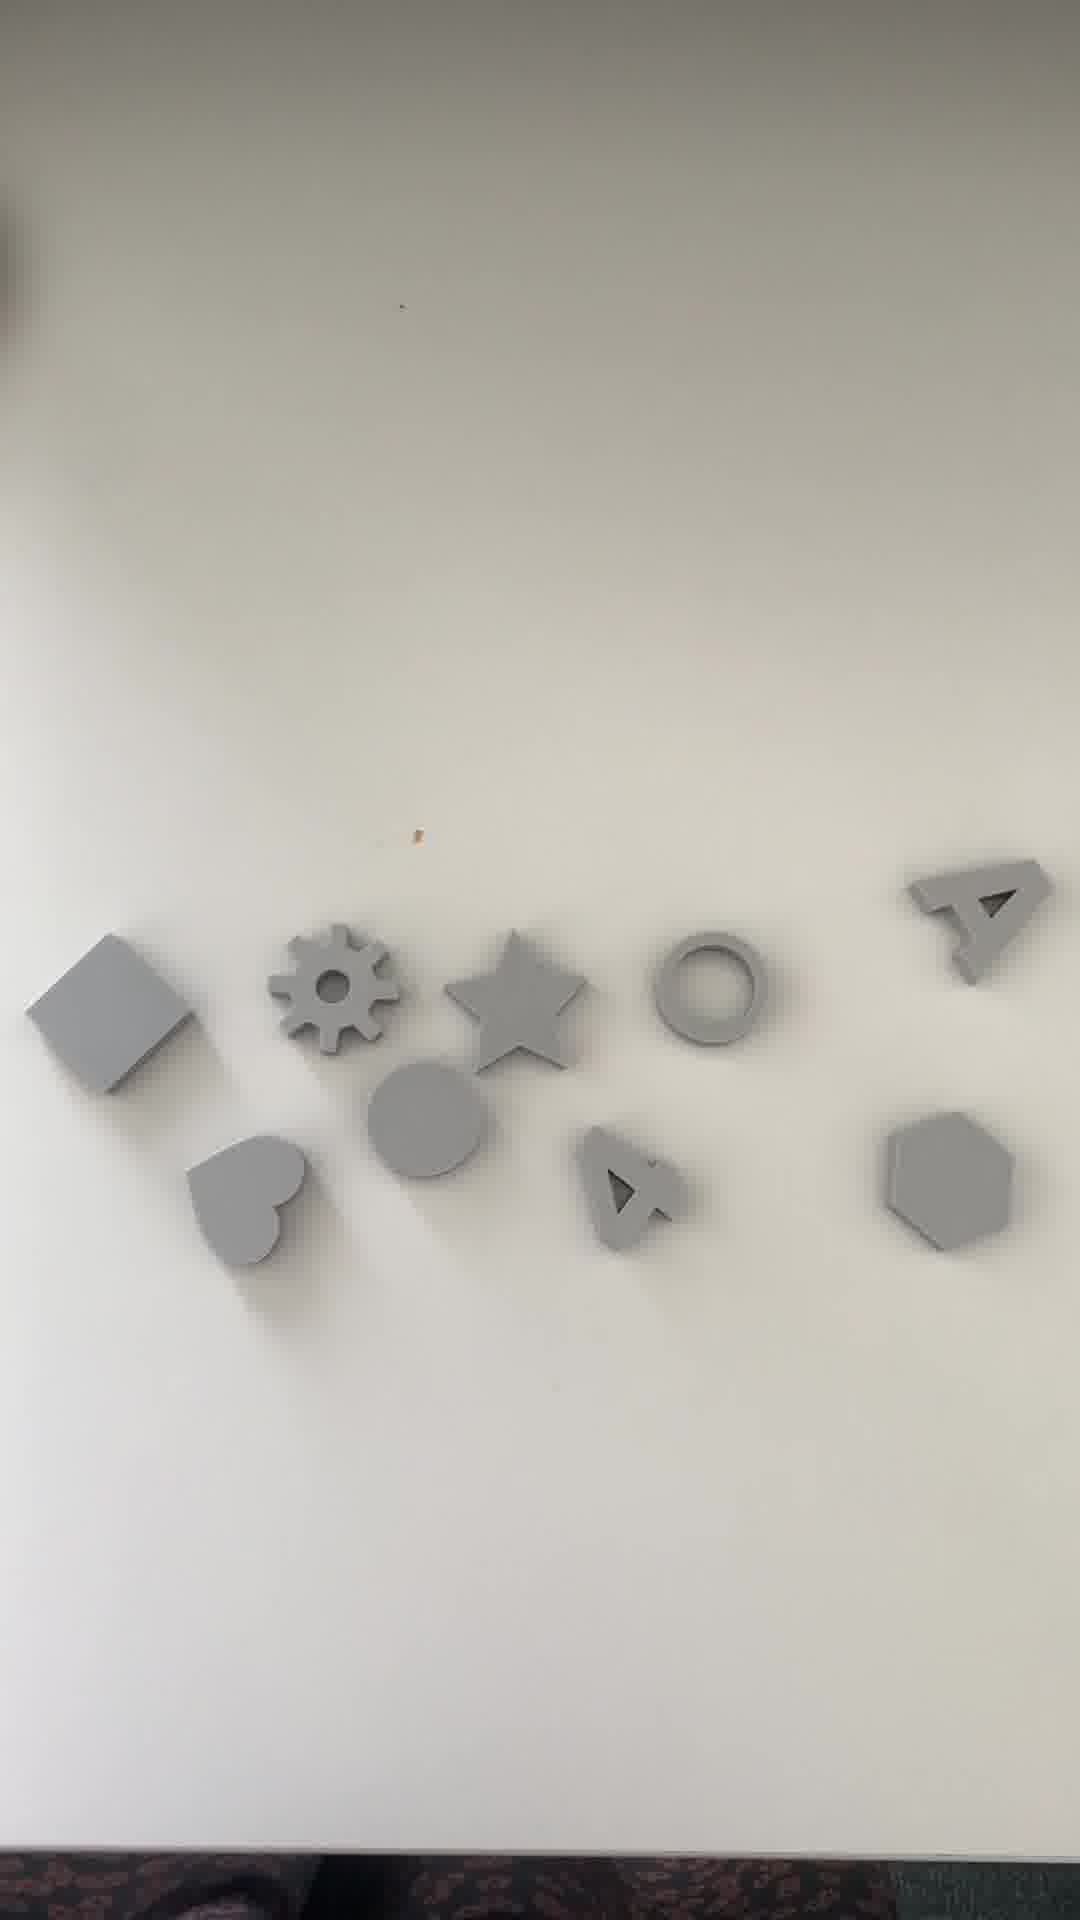Gray A-letter: (907, 857, 1043, 993)
Gray circle: (367, 1059, 491, 1189)
Gray four: (568, 1122, 684, 1257)
Gray gear: (265, 918, 389, 1052)
Gray heart: (185, 1134, 307, 1275)
Gray hexagon: (874, 1102, 1015, 1263)
Gray ring: (644, 930, 778, 1052)
Gray square: (29, 932, 204, 1093)
Gray star: (454, 926, 592, 1073)
